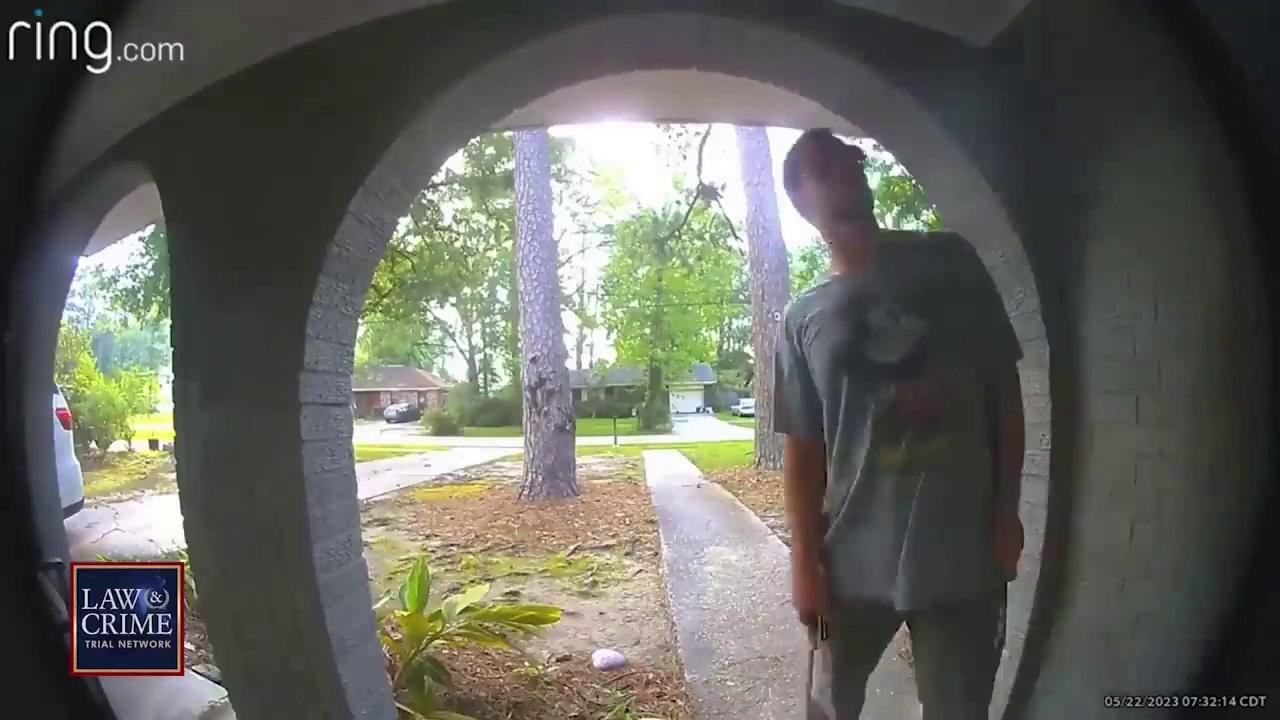suspicion: (678, 76, 1064, 720)
